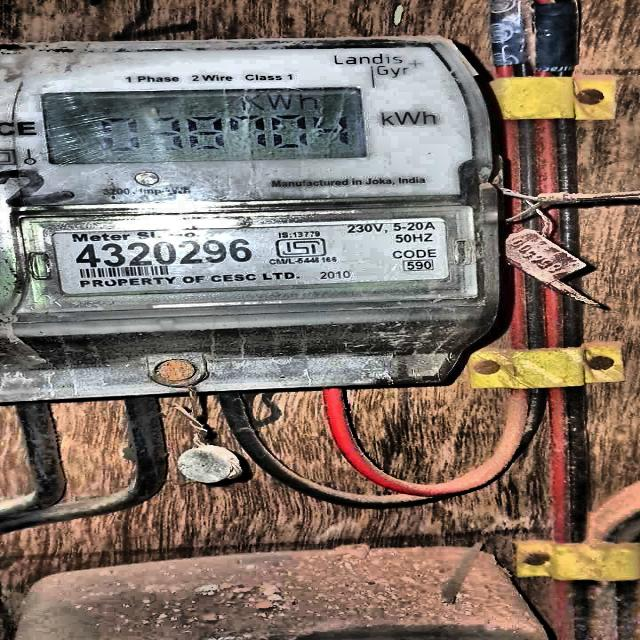Digital: (0, 42, 486, 398)
Reading: (77, 112, 361, 154)
Serial No.: (73, 239, 254, 267)
